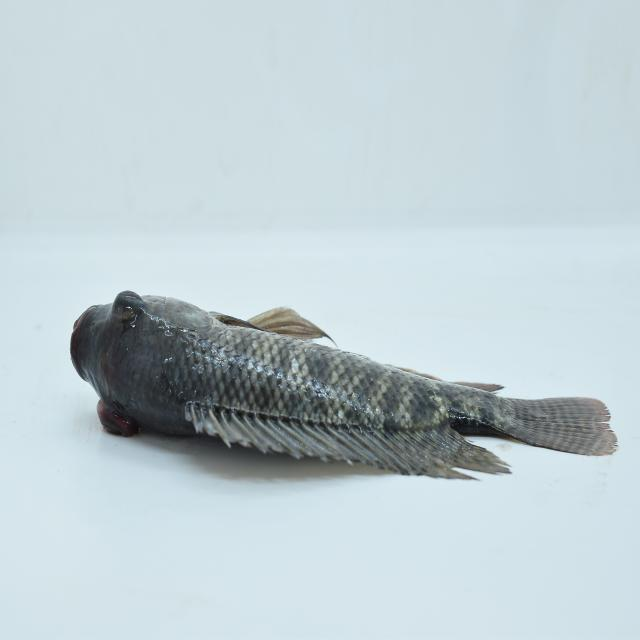Columnaris Disease: (58, 242, 628, 504)
